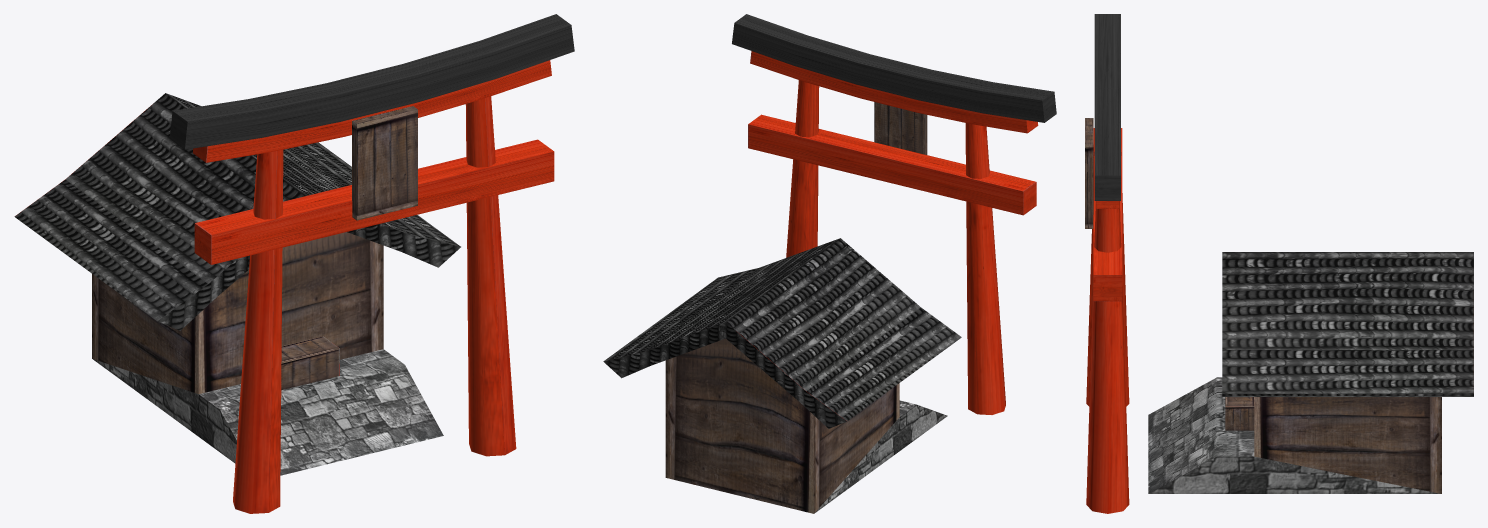
File: Ginger.fbx
3 views of the same model, side by side, from view 1: azimuth 30°, elevation 25°; view 2: azimuth 150°, elevation 25°; view 3: azimuth 270°, elevation 25° (orthographic). The views are drawn at different scales.
Visible parts, largest first — view 1: obj1; view 2: obj1; view 3: obj1.
Boxes of the visible parts, left/top/right/bottom form: obj1: left=14, top=14, right=574, bottom=513; obj1: left=603, top=14, right=1056, bottom=513; obj1: left=1085, top=14, right=1473, bottom=513.
Bounding box in the file's own units: 282 × 283 × 277.
Materials: 1 (1 with a texture image).
